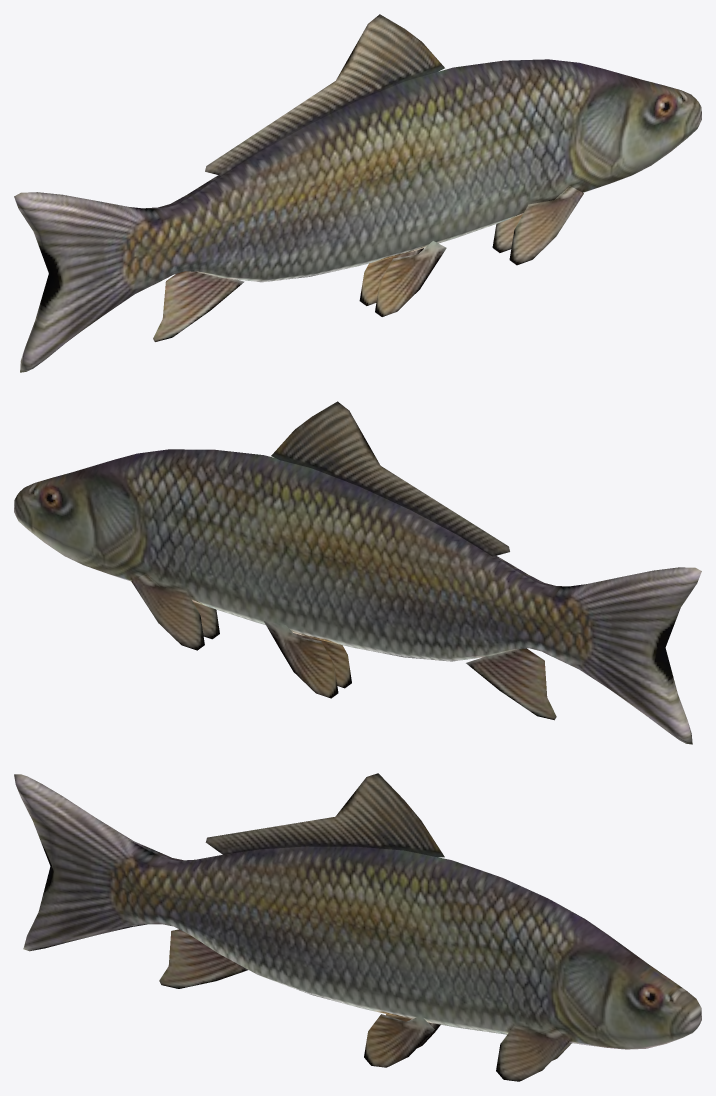
Rendered from fish.obj.
3 renders of one model, top to bottom at view 1: azimuth 30°, elevation 25°; view 2: azimuth 150°, elevation 25°; view 3: azimuth 330°, elevation 25°, orthographic. The views are drawn at different scales.
Visible parts, largest first — view 1: fishCube; view 2: fishCube; view 3: fishCube.
Part boxes in pixels (bbox=[...]): fishCube: bbox=[14, 14, 701, 372]; fishCube: bbox=[14, 401, 701, 744]; fishCube: bbox=[14, 773, 701, 1081].
Bounding box in the file's own units: 25.41 × 10.45 × 1.64.
